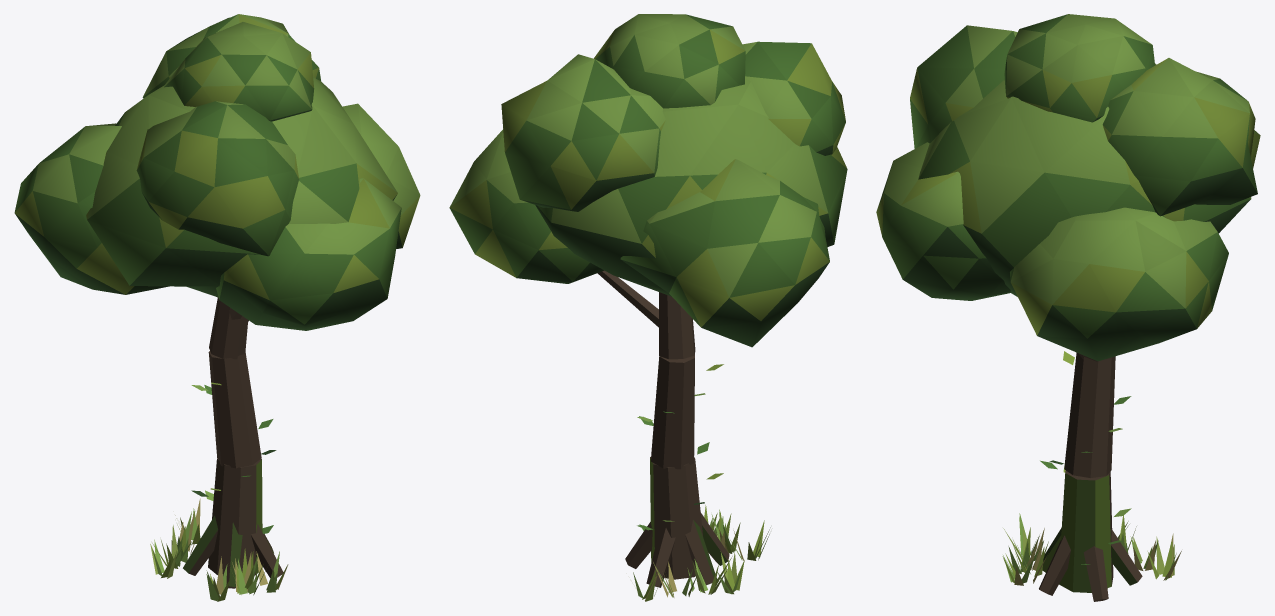
File: tree.glb
The picture shows the model from 3 angles, left to right: view 1: azimuth 30°, elevation 25°; view 2: azimuth 150°, elevation 25°; view 3: azimuth 270°, elevation 25°; orthographic projection. The views are drawn at different scales.
Visible parts, largest first — view 1: tree.001; view 2: tree.001; view 3: tree.001.
Part boxes in pixels (x1,y1,x2,y2): tree.001: (14,14,420,601); tree.001: (449,14,847,601); tree.001: (876,14,1260,601).
Size of the model in its own units: 4.15 by 5.98 by 3.7.
